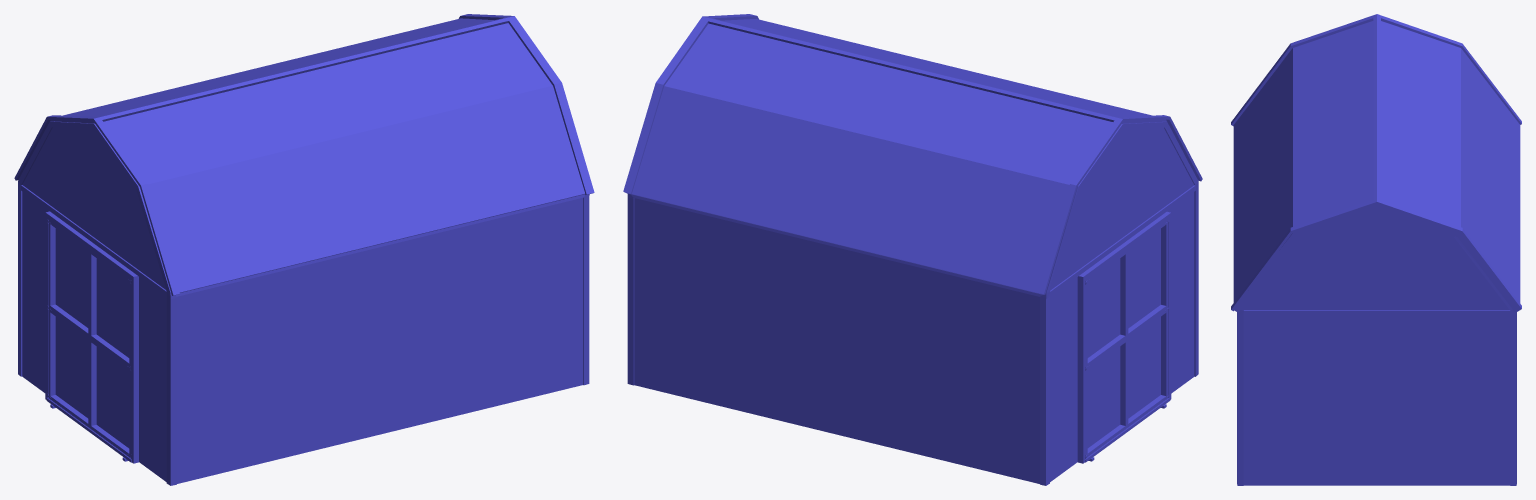
Rendered from barn16.obj.
3 views of the same model, side by side, from view 1: azimuth 30°, elevation 25°; view 2: azimuth 150°, elevation 25°; view 3: azimuth 270°, elevation 25° (orthographic). The views are drawn at different scales.
Parts seen in each view (by area): view 1: Box001, Object001, Box002, Object007, Object009; view 2: Box001, Object001, Object007, Box002, Object009; view 3: Box001, Object001, Object009, Box002.
Boxes of the visible parts, x1,y1,x2,y2 form: Box001: [22, 127, 582, 483]; Object001: [50, 18, 584, 292]; Box002: [18, 121, 589, 485]; Object007: [45, 211, 138, 463]; Object009: [14, 14, 594, 295]; Box001: [634, 128, 1194, 483]; Object001: [626, 19, 1184, 294]; Object007: [1077, 211, 1171, 463]; Box002: [627, 121, 1198, 485]; Object009: [623, 14, 1202, 294]; Box001: [1243, 211, 1510, 485]; Object001: [1233, 21, 1520, 312]; Object009: [1231, 14, 1521, 311]; Box002: [1237, 209, 1516, 485].
Bounding box in the file's own units: 195 × 137 × 126.
